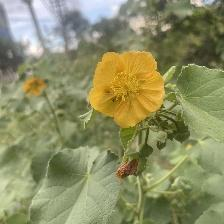indian mallow: (89, 50, 168, 129)
